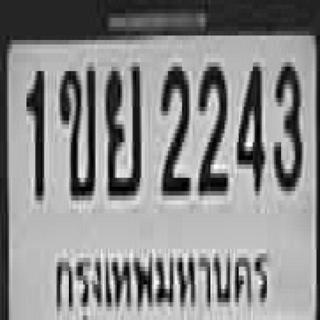A02: (58, 62, 94, 196)
A34: (104, 60, 140, 193)
N01: (25, 64, 42, 194)
N02: (196, 58, 226, 191), (159, 62, 187, 191)
N03: (272, 56, 301, 184)
N04: (235, 56, 263, 189)
P04: (46, 242, 274, 317)
